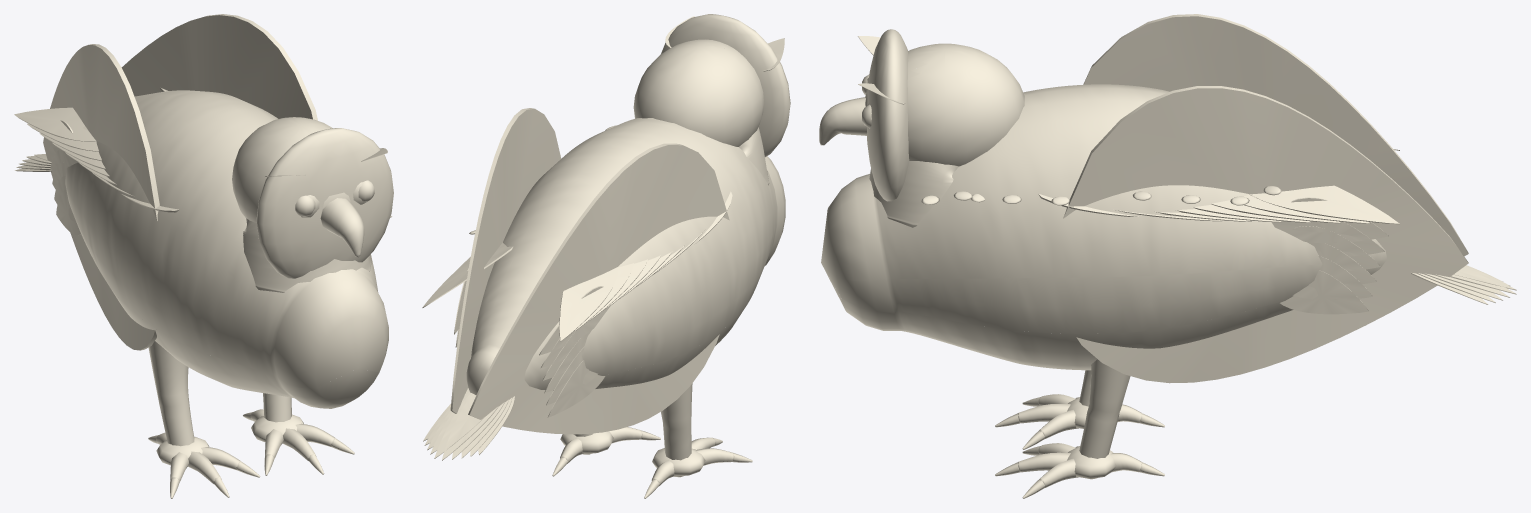
File: owl172_run95_birds-and-reptiles-hd-barn-owl-b51d286f_cream_ONLY_REJECTED.glb
3 views of the same model, side by side, from view 1: azimuth 30°, elevation 25°; view 2: azimuth 150°, elevation 25°; view 3: azimuth 270°, elevation 25° (orthographic). The views are drawn at different scales.
Parts seen in each view (by area): view 1: barn-owl; view 2: barn-owl; view 3: barn-owl.
Part boxes in pixels (<box>): barn-owl: <box>14,14,393,498</box>; barn-owl: <box>422,14,790,498</box>; barn-owl: <box>819,14,1516,498</box>.
Bounding box in the file's own units: 0.206 × 0.4006 × 0.6072.
